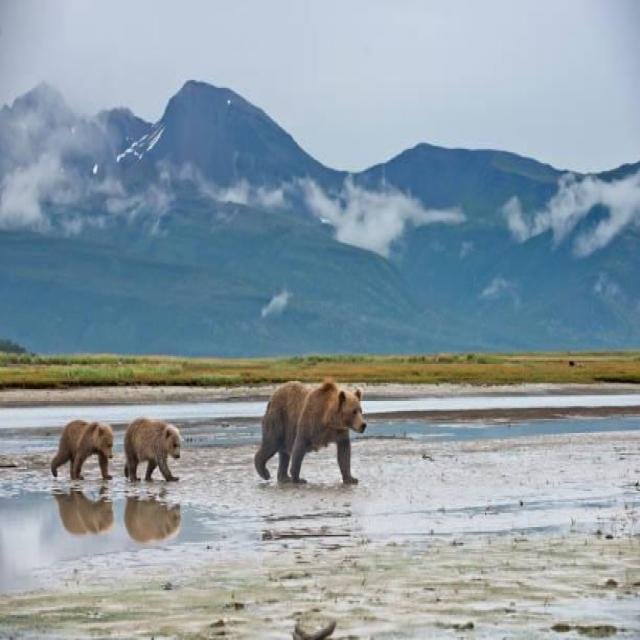Bear: (253, 383, 366, 486), (51, 419, 114, 483), (124, 419, 182, 486)
